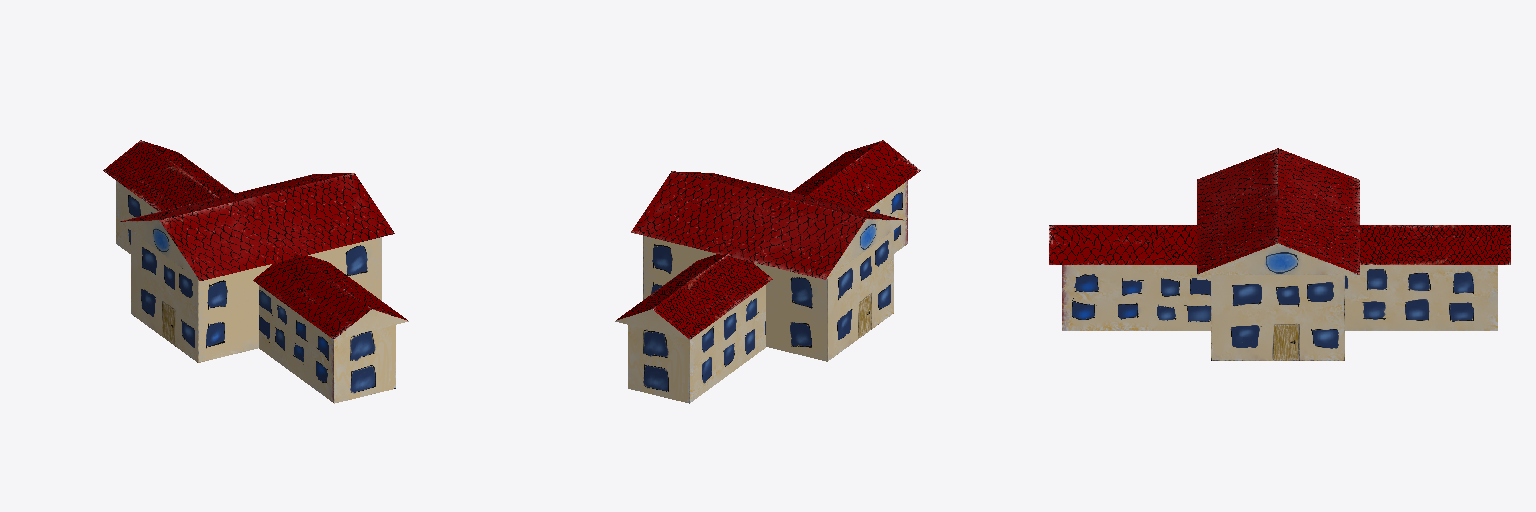
3 views of the same model, side by side, from view 1: azimuth 30°, elevation 25°; view 2: azimuth 150°, elevation 25°; view 3: azimuth 270°, elevation 25° (orthographic).
Parts seen in each view (by area): view 1: Cube.001_Cube.006; view 2: Cube.001_Cube.006; view 3: Cube.001_Cube.006.
Boxes of the visible parts, box(x1,y1,x2,y2) form: Cube.001_Cube.006: box(103, 140, 408, 403); Cube.001_Cube.006: box(615, 140, 920, 403); Cube.001_Cube.006: box(1049, 148, 1510, 360).
Bounding box in the file's own units: 22.84 × 13.49 × 46.91.
1 materials, 1 textured.